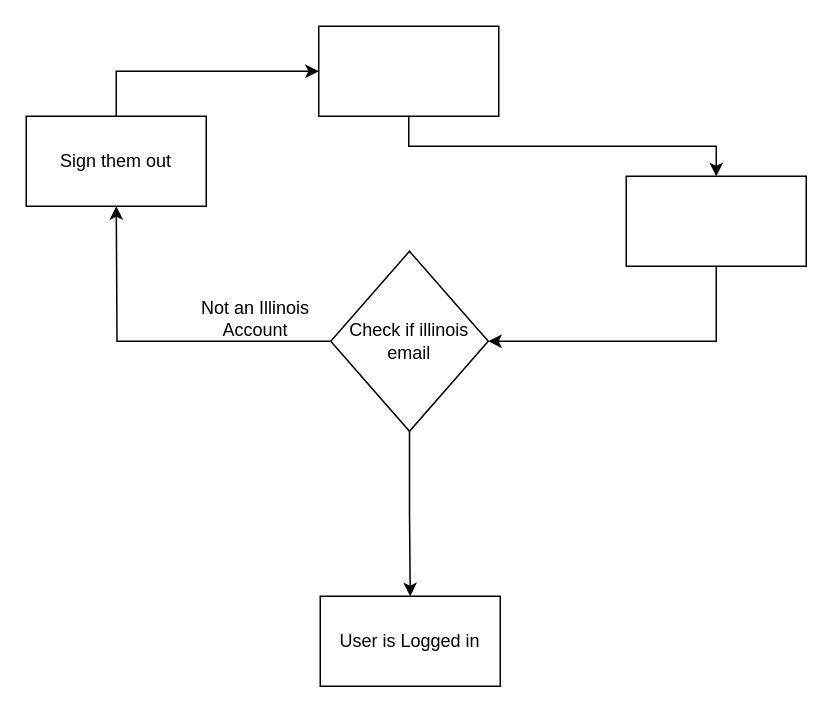
The diagram is 833 pixels wide and 713 high, and some of its shapes have lost their labels. Each missing label, with the centre of its shape:
Google Auth Button: the point at 408,70
User Signs in: the point at 715,220
